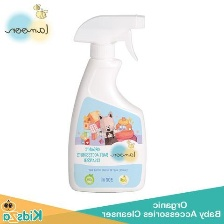cleaning_solution: (65, 9, 153, 195)
